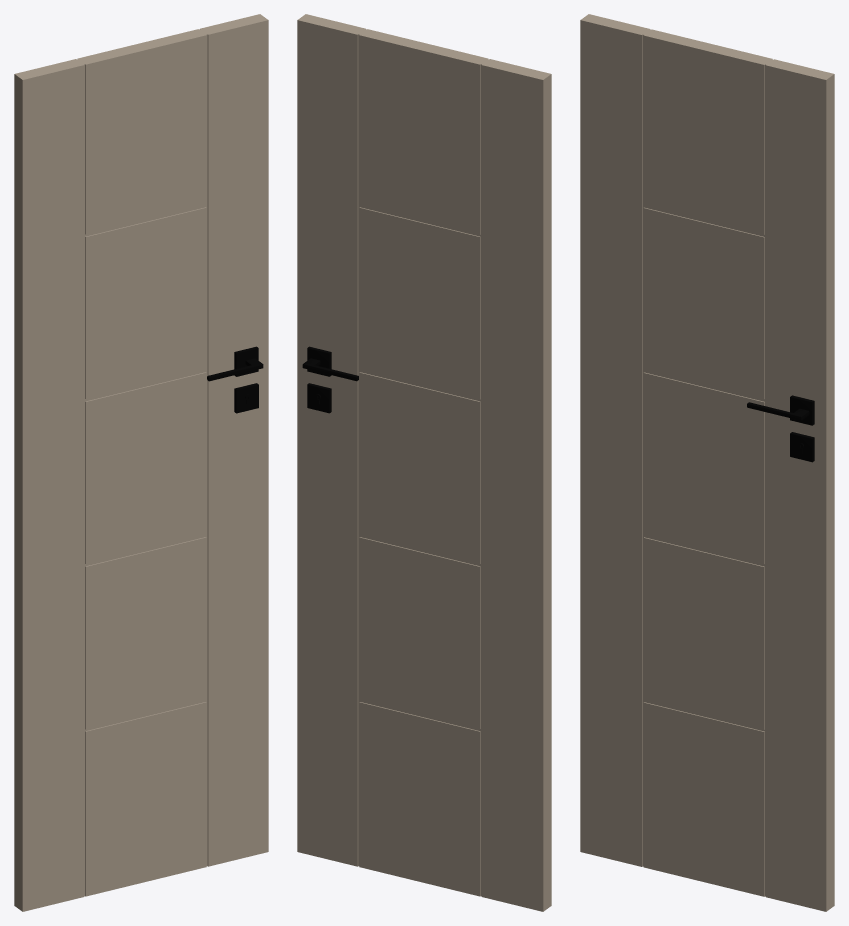
Rendered from SC_1_3b_door.glb.
3 views of the same model, side by side, from view 1: azimuth 30°, elevation 25°; view 2: azimuth 150°, elevation 25°; view 3: azimuth 330°, elevation 25° (orthographic).
Visible parts, largest first — view 1: SC_1__3b_90_door__DT_34; view 2: SC_1__3b_90_door__DT_34; view 3: SC_1__3b_90_door__DT_34.
Boxes of the visible parts, x1,y1,x2,y2 form: SC_1__3b_90_door__DT_34: [14, 14, 268, 911]; SC_1__3b_90_door__DT_34: [297, 14, 551, 911]; SC_1__3b_90_door__DT_34: [580, 14, 834, 911].
Bounding box in the file's own units: 0.5499 × 1.78 × 0.1089.
Materials: 1 (1 with a texture image).
